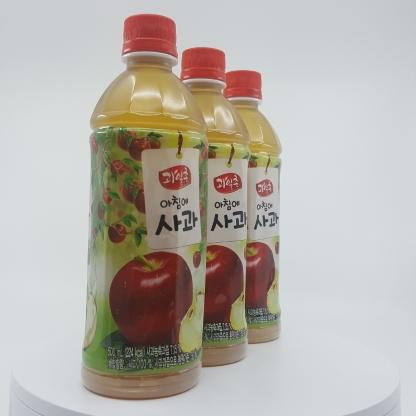--------500ML: (81, 14, 209, 398)
